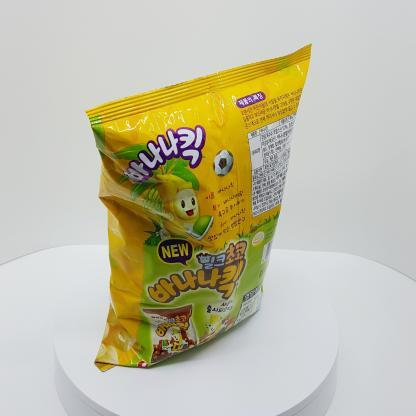Plastic Packaging: (81, 38, 339, 378)
